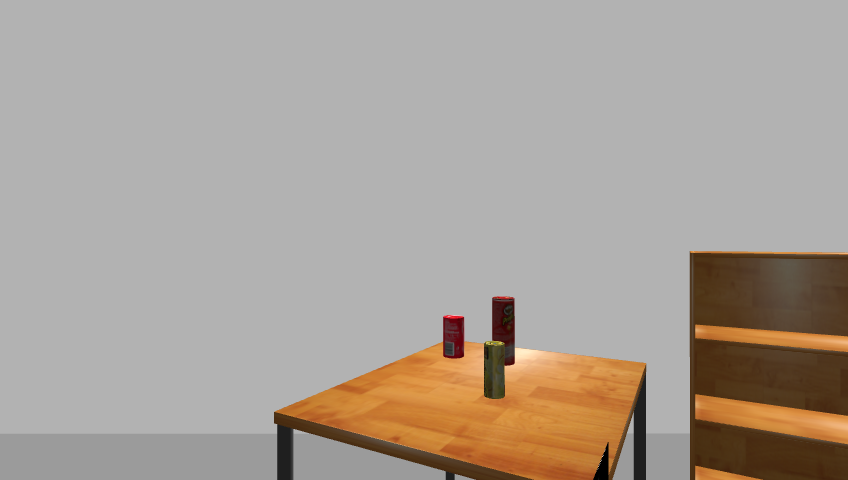aruco marker: (590, 443, 612, 480)
biscuits pack: (482, 341, 507, 400)
bookshelf: (685, 250, 848, 479)
coke can: (441, 315, 466, 360)
dinner table: (265, 343, 656, 480)
pringles can: (489, 295, 517, 368)
